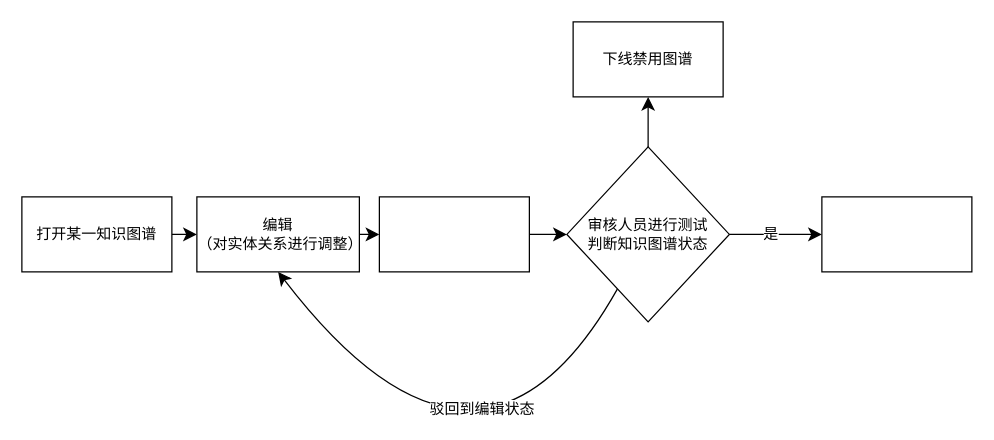
This 994x440 diagram has some shape labels left out. Here are the shapes that lost their labels. From the top down, the box of each, then its label:
(378, 196, 529, 272): 实体转入 待审核状态
(821, 196, 972, 272): 完成审核
